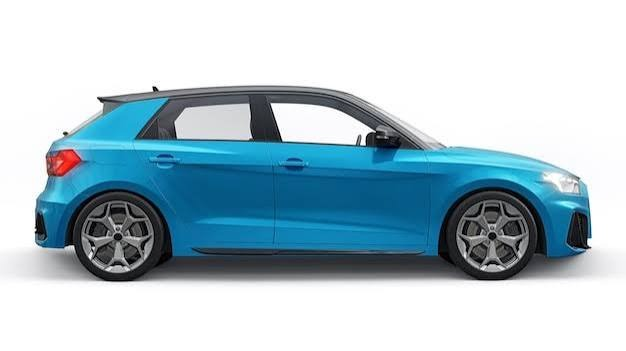car: (38, 79, 605, 281)
